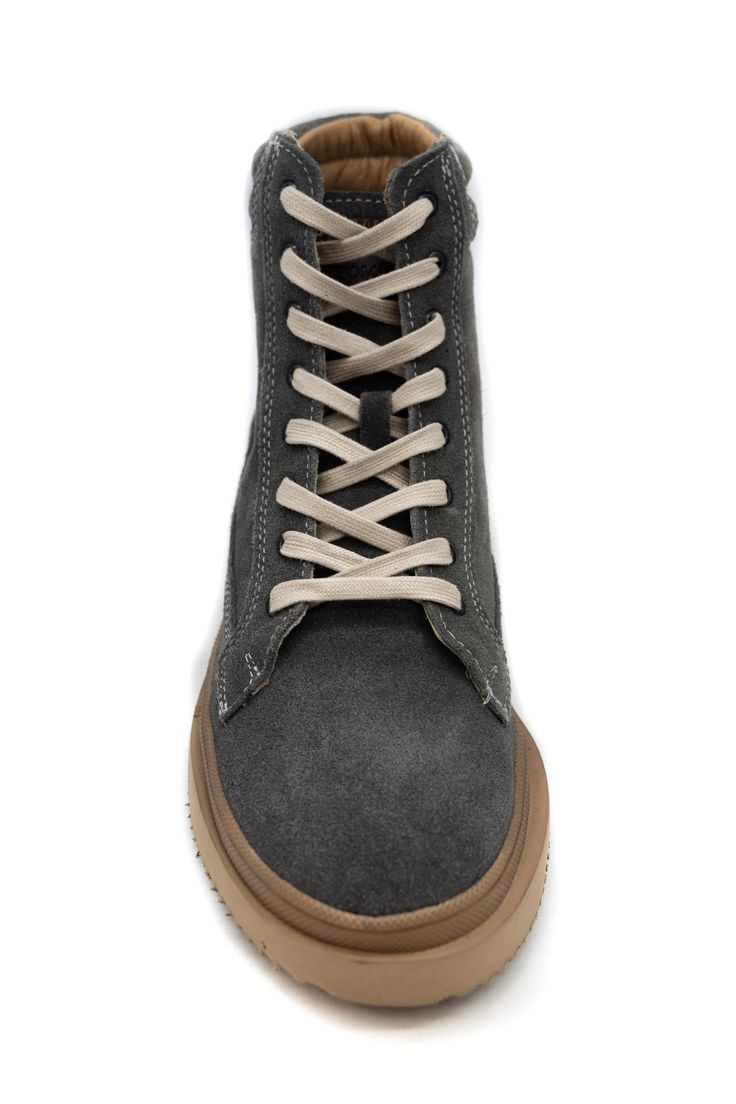gamuza: (211, 127, 518, 917)
